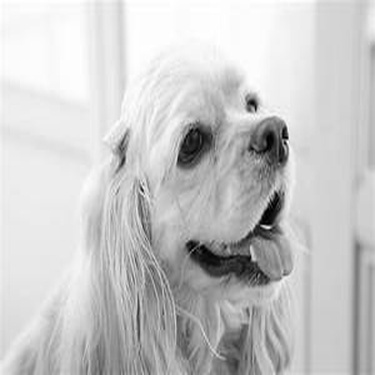dog: (1, 33, 311, 374)
